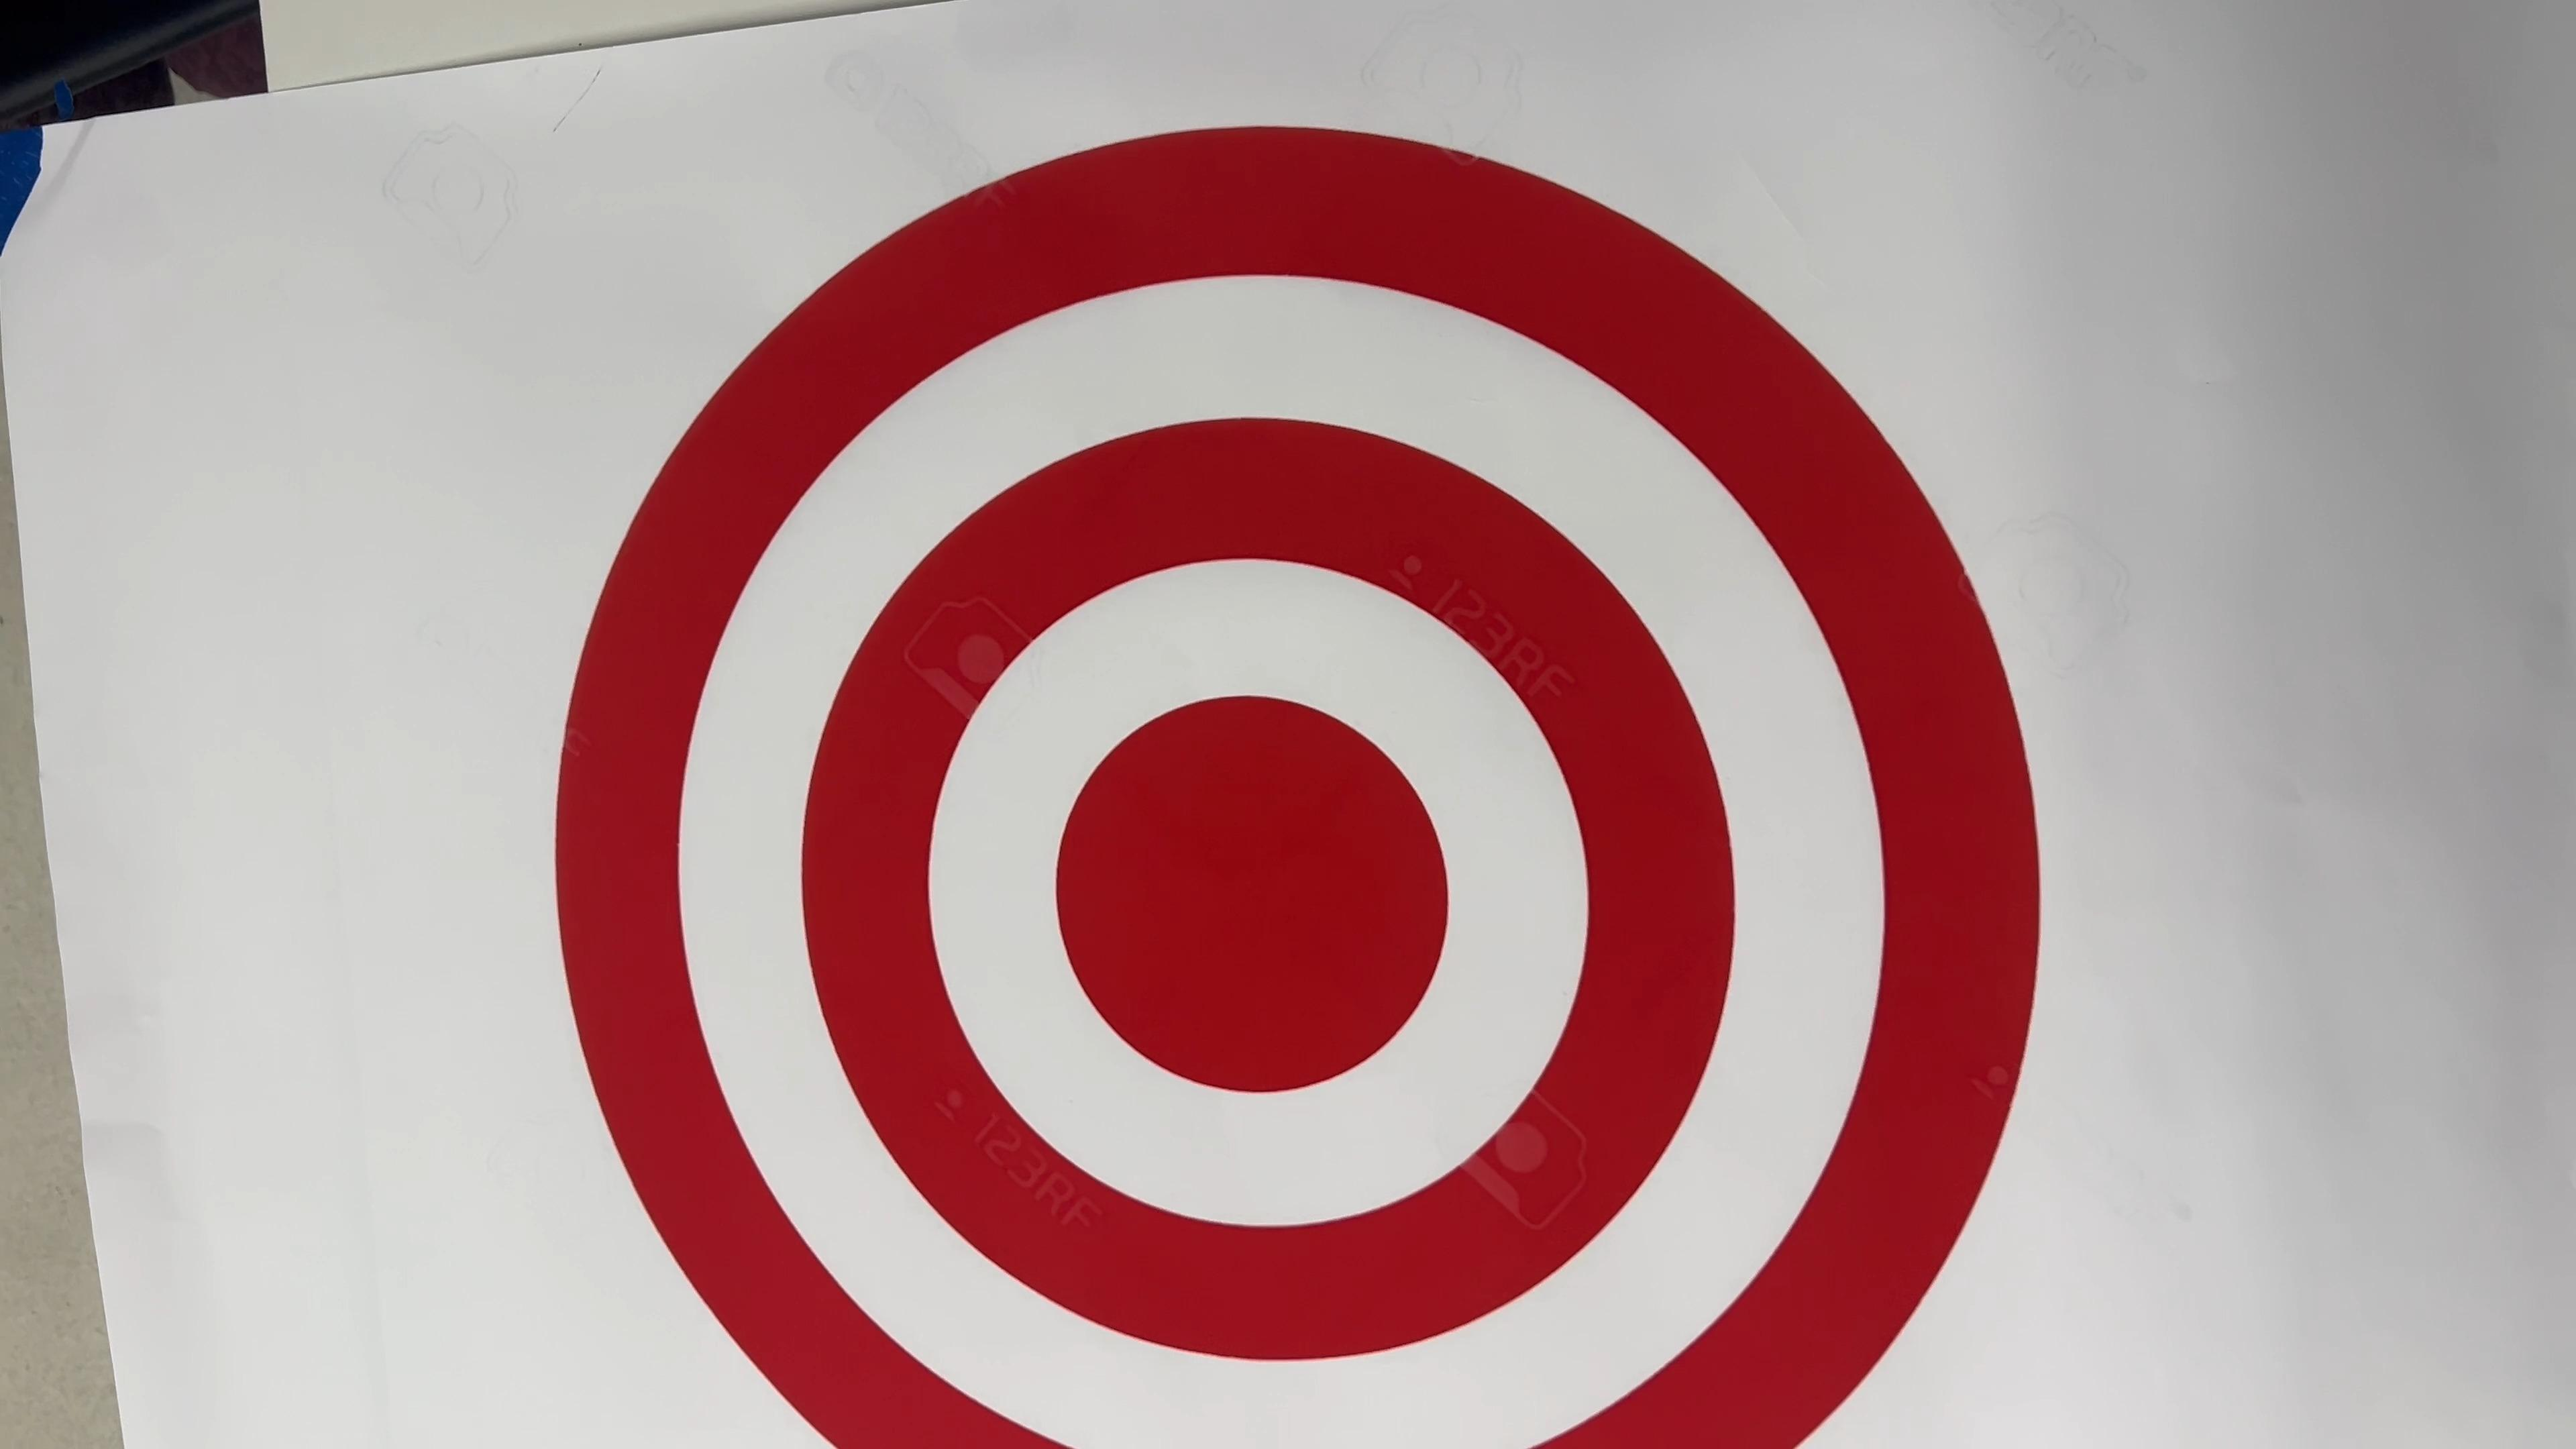target_red: (494, 103, 2068, 1449)
